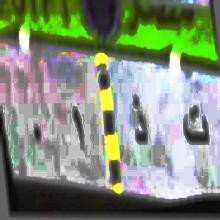0: (30, 112, 46, 157)
1: (71, 101, 87, 156)
taa: (180, 100, 211, 153)
zaal: (127, 92, 151, 160)
